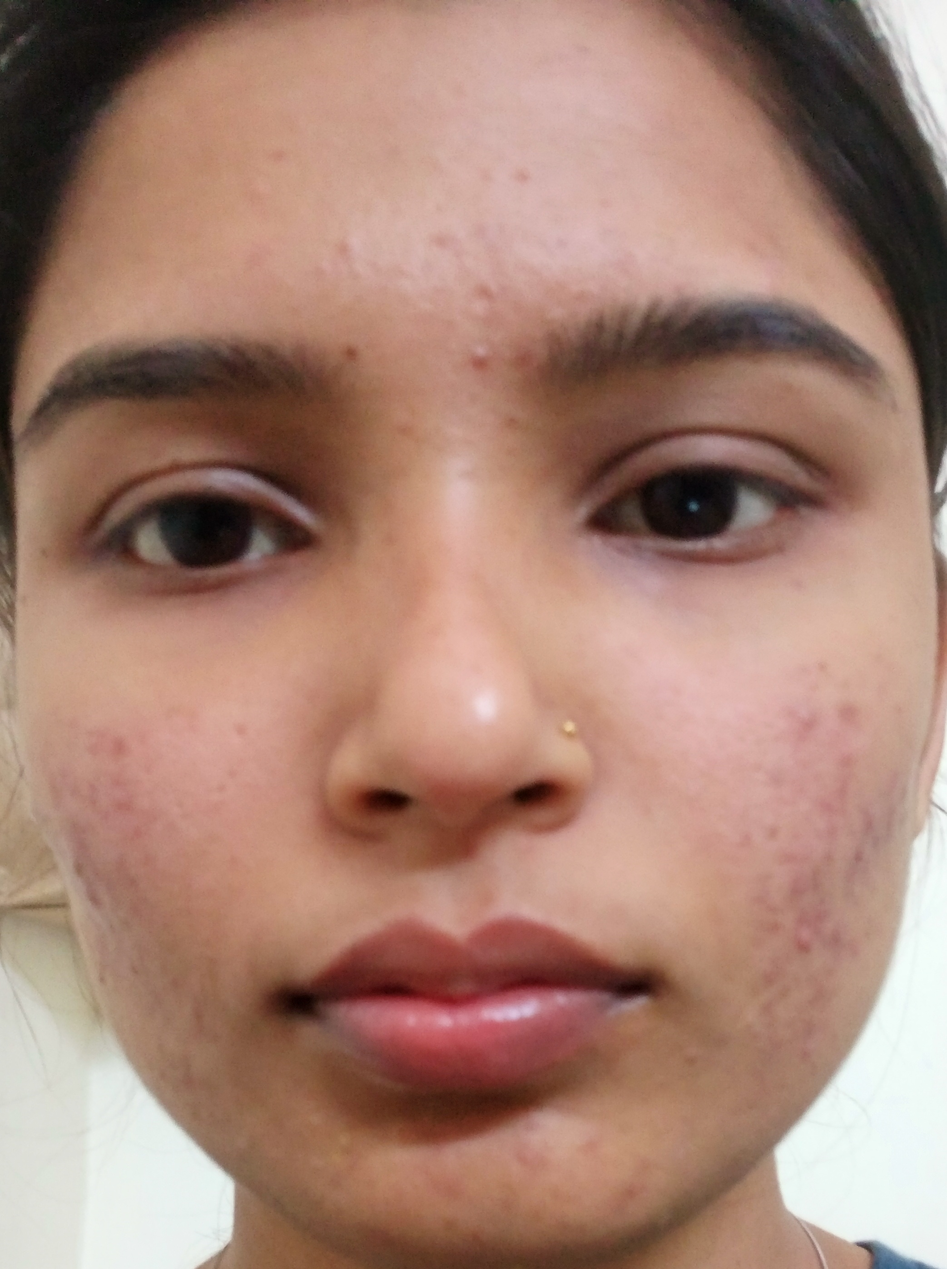papule: (445, 317, 512, 395), (780, 702, 839, 744), (94, 725, 144, 763)
